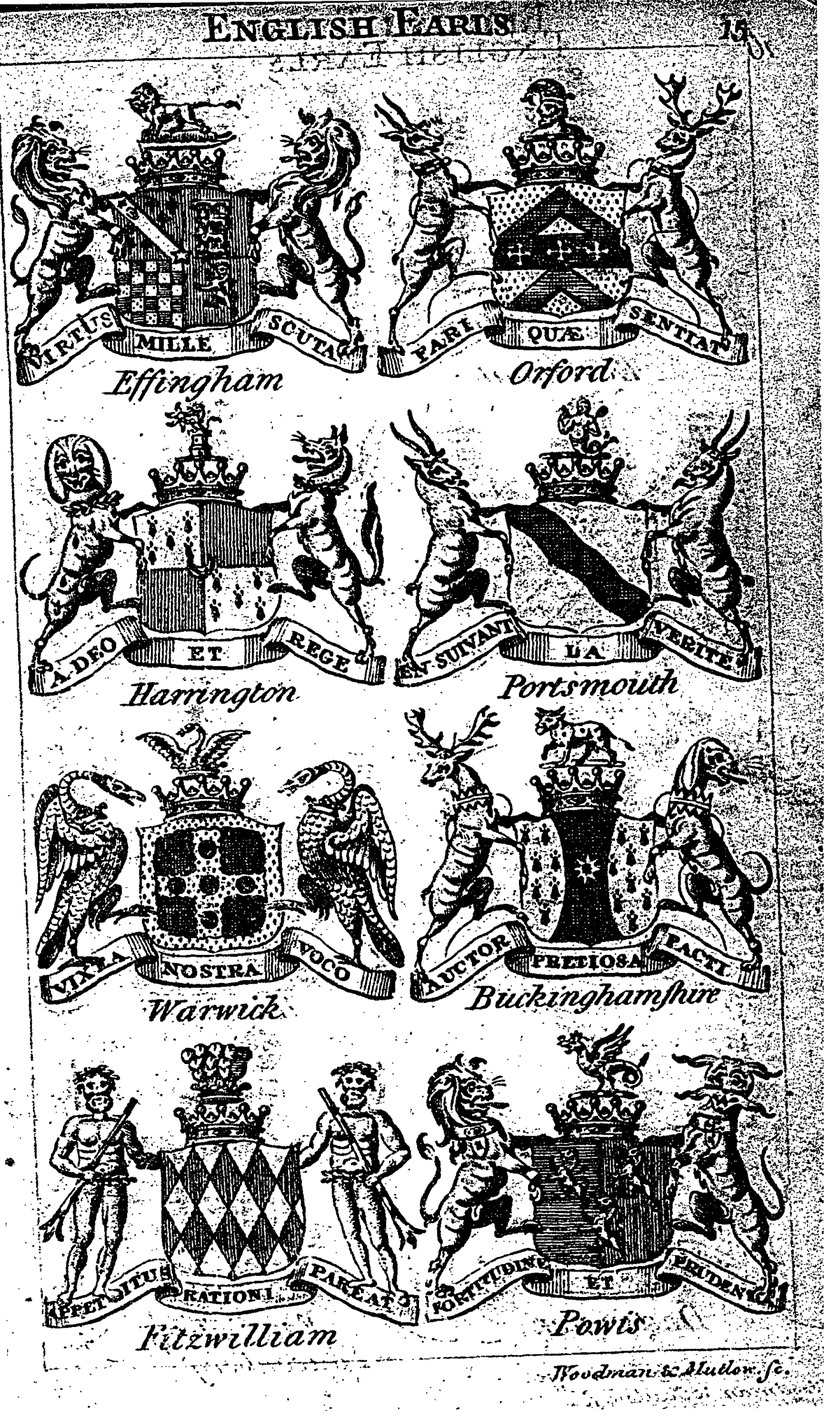coat_of_arms: (4, 71, 375, 404), (415, 1012, 794, 1335), (37, 1033, 421, 1350), (16, 721, 405, 1028), (19, 407, 393, 722), (390, 397, 766, 705), (400, 709, 776, 1013), (381, 78, 749, 387)
